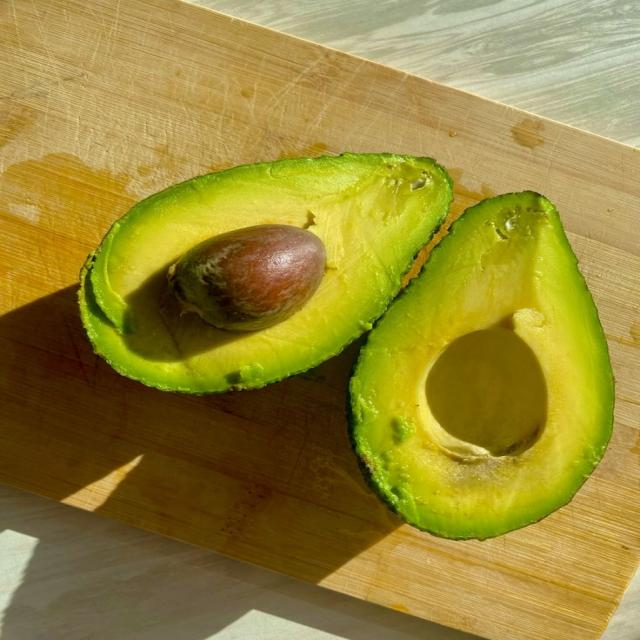avocado: (350, 192, 613, 539), (80, 154, 452, 393)
